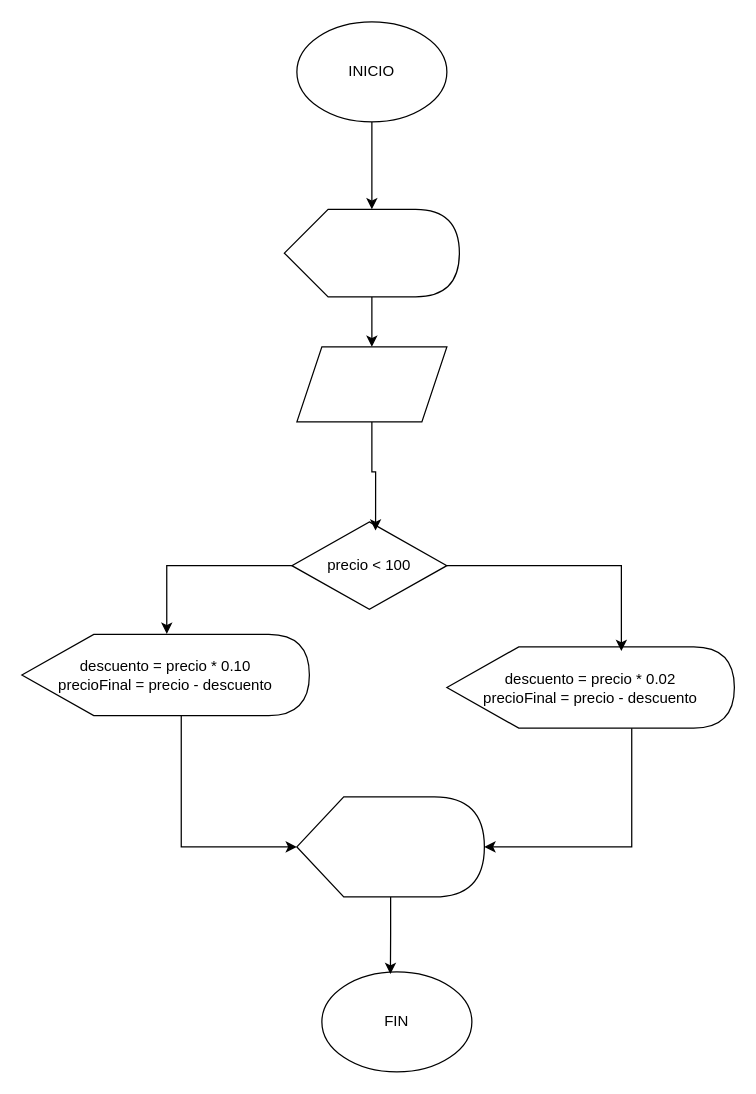
This 756x1094 diagram has some shape labels left out. The shapes that lost their labels are listed below. From the top down, each one's box as (x1, y1, x2, y2) in pixels, then its label:
(283, 208, 459, 297): "Digite el precio del producto"
(296, 346, 447, 422): "Precio"
(296, 796, 484, 897): "El precio final es: ", precioFinal
